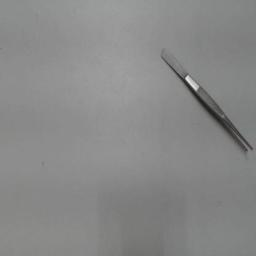Gillies Toothed Dissector: (157, 38, 255, 160)
